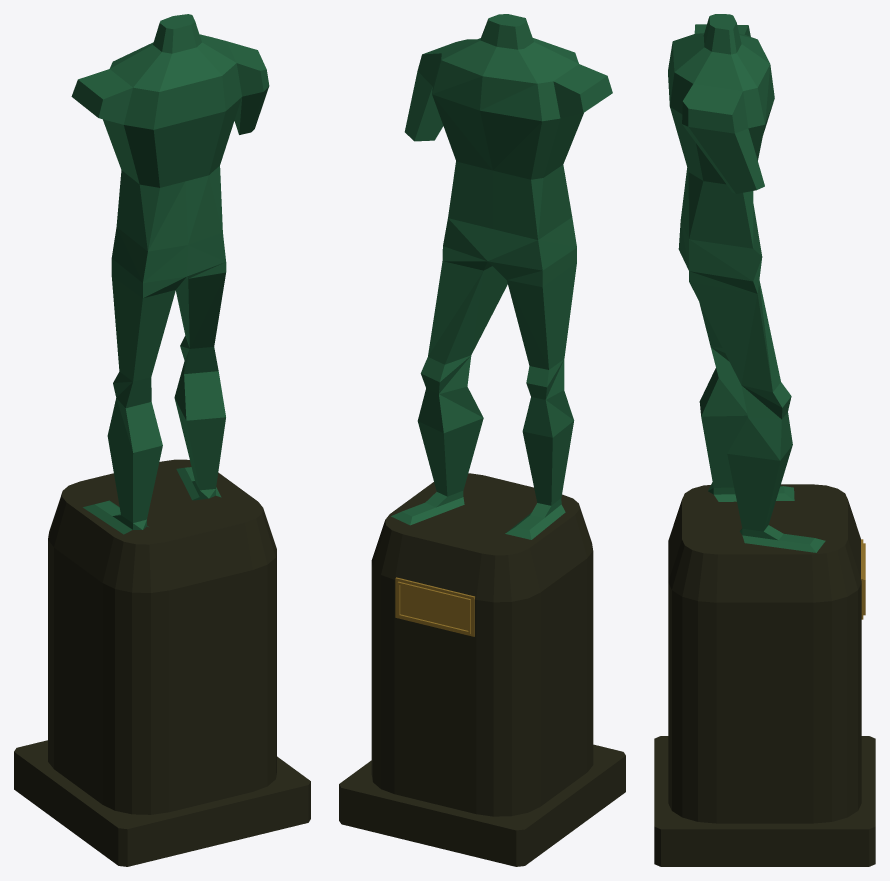
Rendered from monumento-estatua.fbx.
3 renders of one model, left to right at view 1: azimuth 30°, elevation 25°; view 2: azimuth 150°, elevation 25°; view 3: azimuth 270°, elevation 25°, orthographic. The views are drawn at different scales.
Parts seen in each view (by area): view 1: Mesh1_FrontColor_0; view 2: Mesh1_FrontColor_0; view 3: Mesh1_FrontColor_0.
Part boxes in pixels (x1,y1,x2,y2): Mesh1_FrontColor_0: [14, 14, 310, 866]; Mesh1_FrontColor_0: [339, 14, 625, 866]; Mesh1_FrontColor_0: [654, 14, 875, 866].
Size of the model in its own units: 40.68 by 159 by 40.
